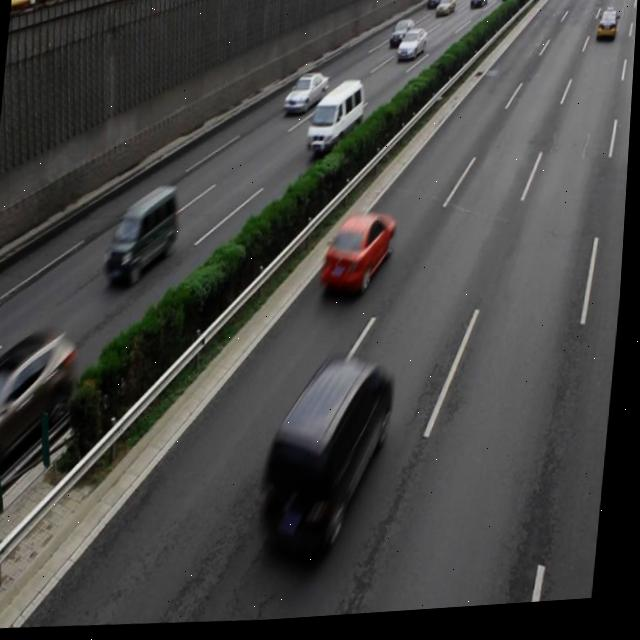car: (0, 326, 81, 503), (320, 214, 398, 305), (283, 74, 329, 121)
truck: (258, 357, 398, 569), (105, 184, 184, 292), (305, 81, 367, 163)
